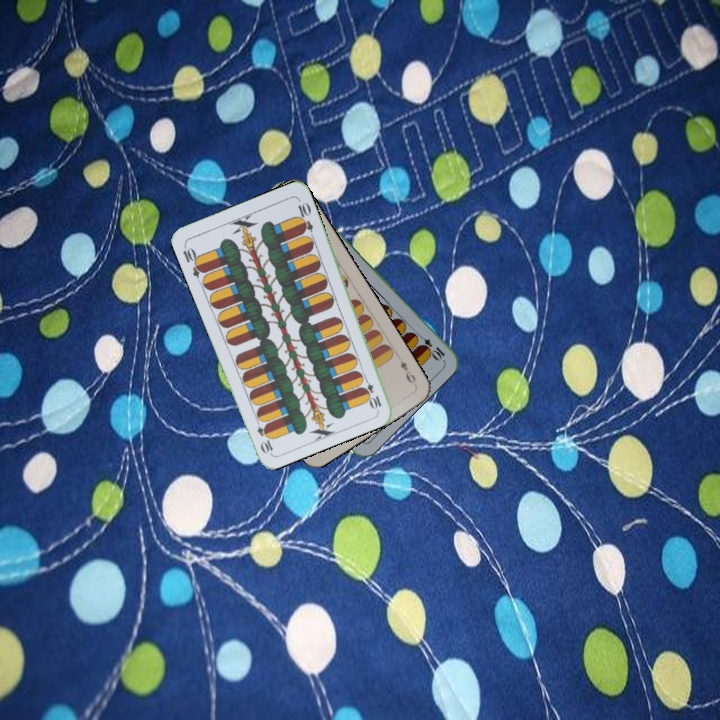E10: (412, 330, 447, 363), (179, 241, 207, 280), (359, 372, 384, 411)
E9: (393, 352, 419, 388)
